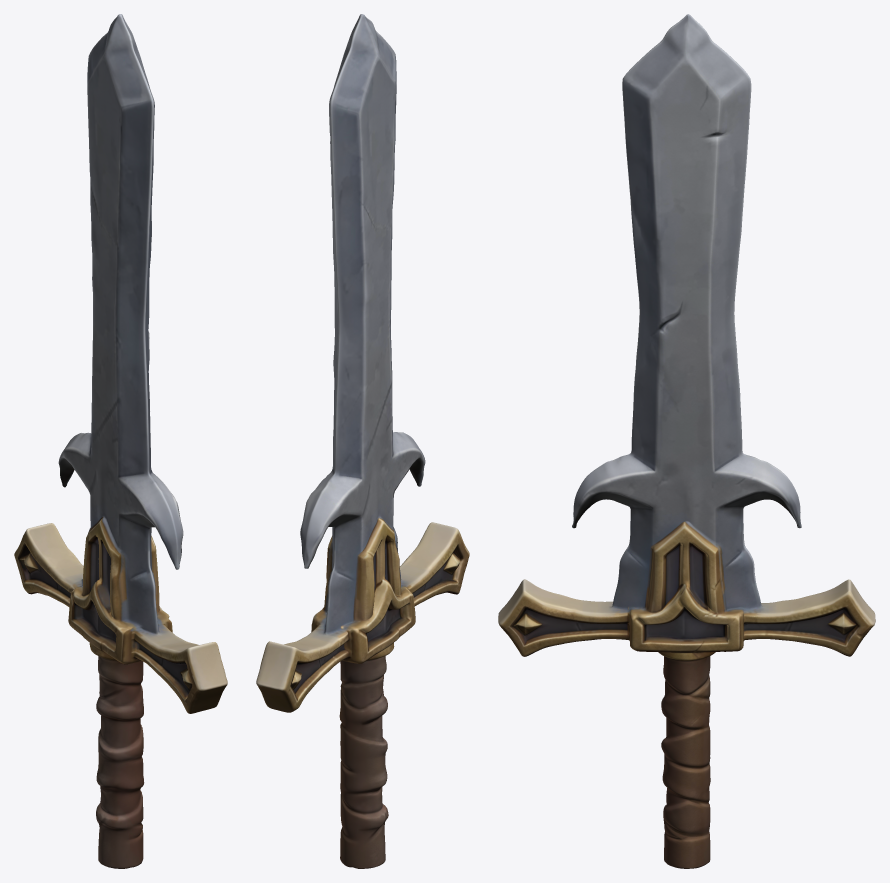
The model's file is Zweihander_Tripo.glb.
The picture shows the model from 3 angles, left to right: view 1: azimuth 30°, elevation 25°; view 2: azimuth 150°, elevation 25°; view 3: azimuth 270°, elevation 25°; orthographic projection.
Visible parts, largest first — view 1: tripo_node_767f7433-9a99-42ba-9e77-4b03dfacca82; view 2: tripo_node_767f7433-9a99-42ba-9e77-4b03dfacca82; view 3: tripo_node_767f7433-9a99-42ba-9e77-4b03dfacca82.
Boxes of the visible parts, left/top/right/bottom form: tripo_node_767f7433-9a99-42ba-9e77-4b03dfacca82: left=14, top=14, right=227, bottom=868; tripo_node_767f7433-9a99-42ba-9e77-4b03dfacca82: left=256, top=14, right=469, bottom=868; tripo_node_767f7433-9a99-42ba-9e77-4b03dfacca82: left=498, top=14, right=875, bottom=868.
Size of the model in its own units: 0.0723 by 0.9803 by 0.3964.
1 material, 1 textured.
